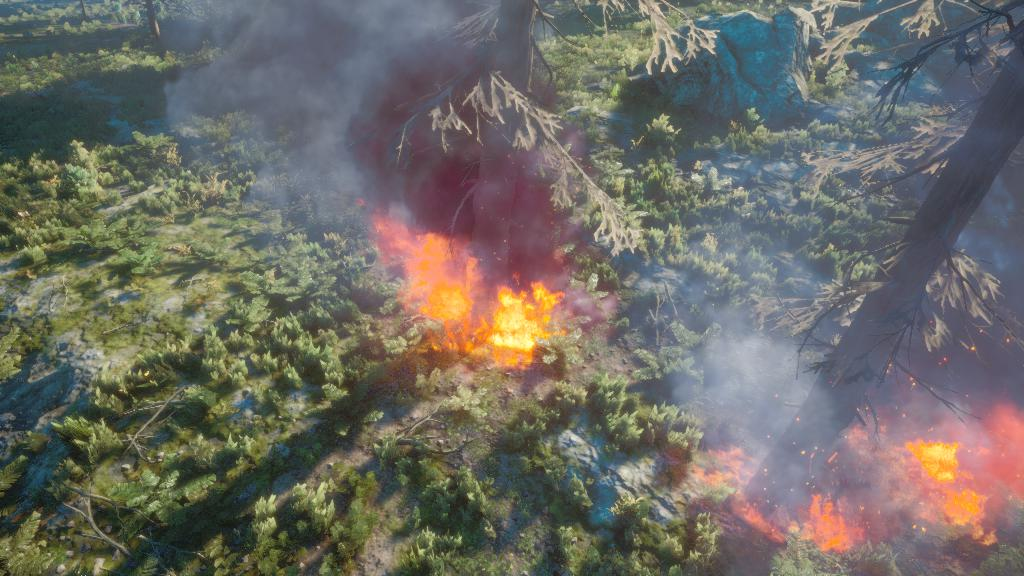Fire: (360, 218, 615, 390), (876, 388, 1023, 537)
smoke: (684, 220, 979, 540), (149, 0, 579, 214)
